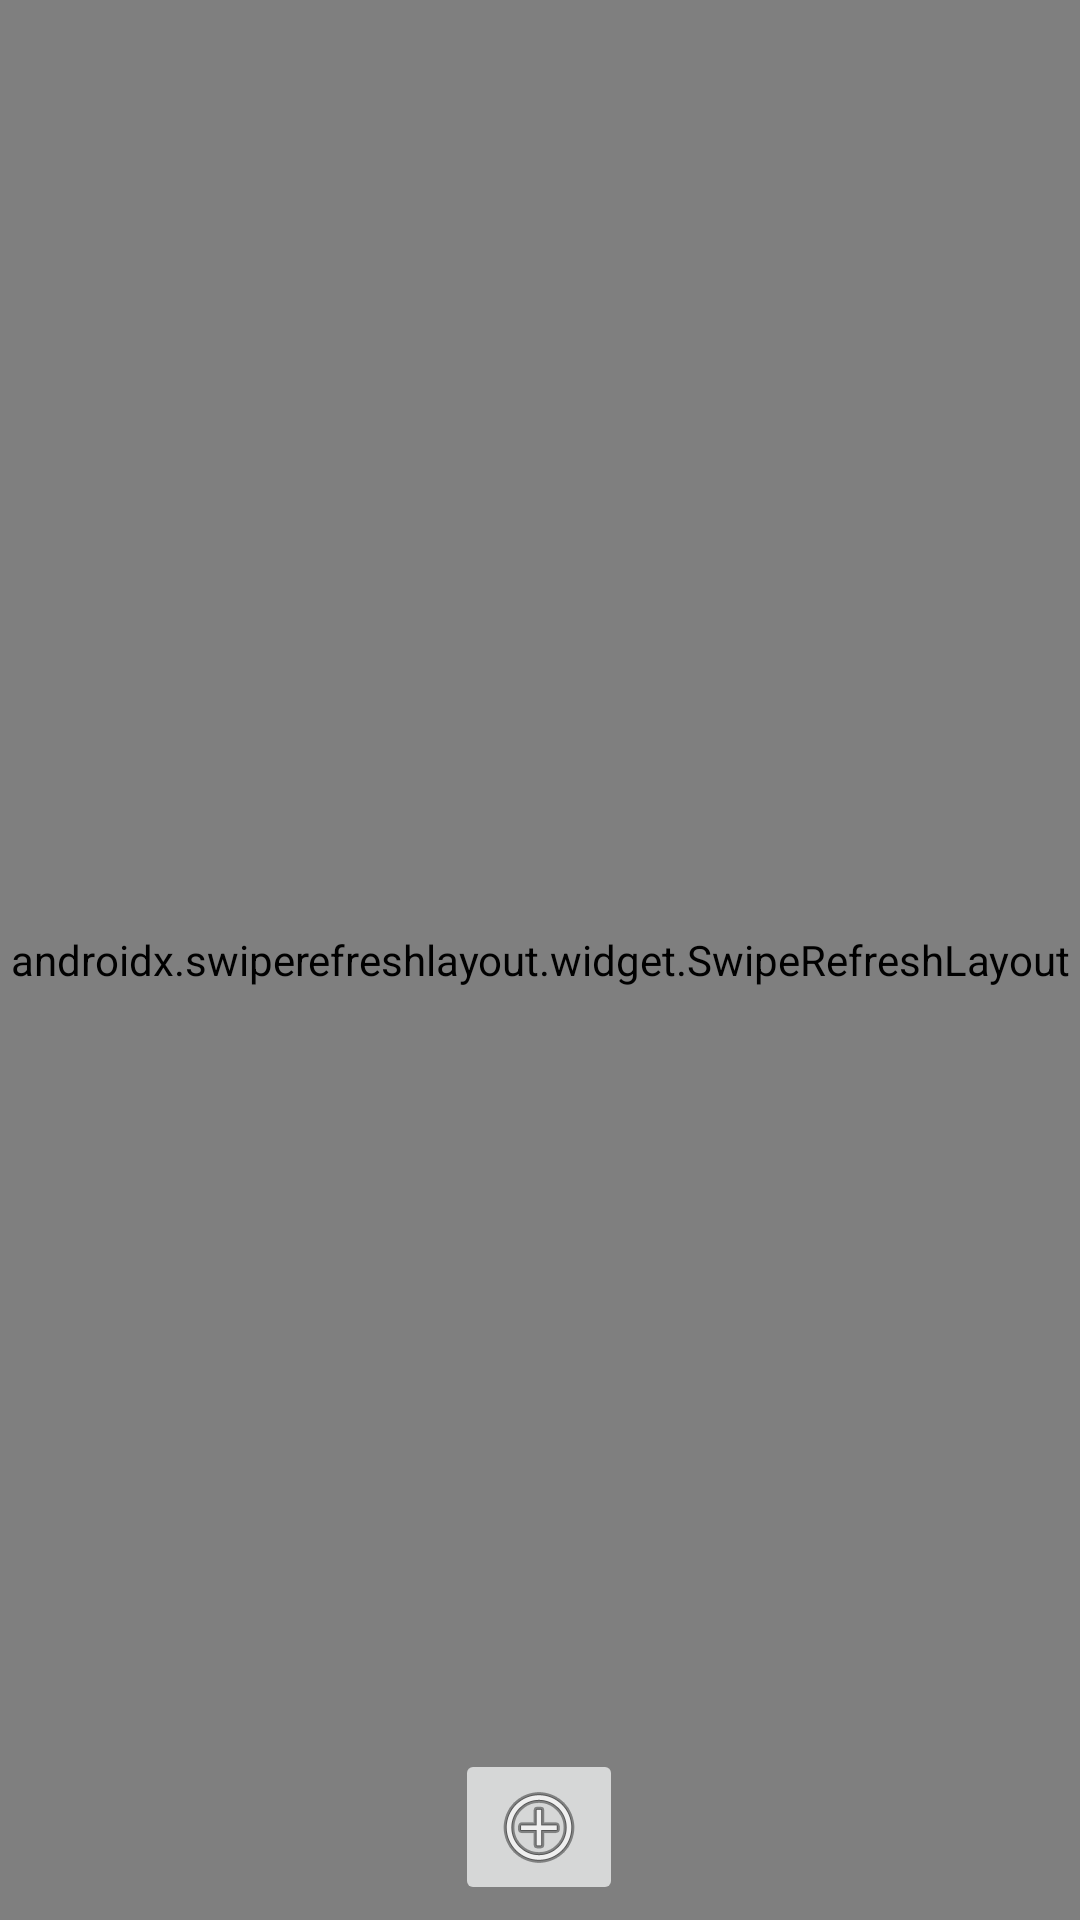

Named icons in this screenshot (1080×1920) and their bounding boxes, detection(x1, y1, x2, y2):
add: detection(467, 1767, 611, 1887)
